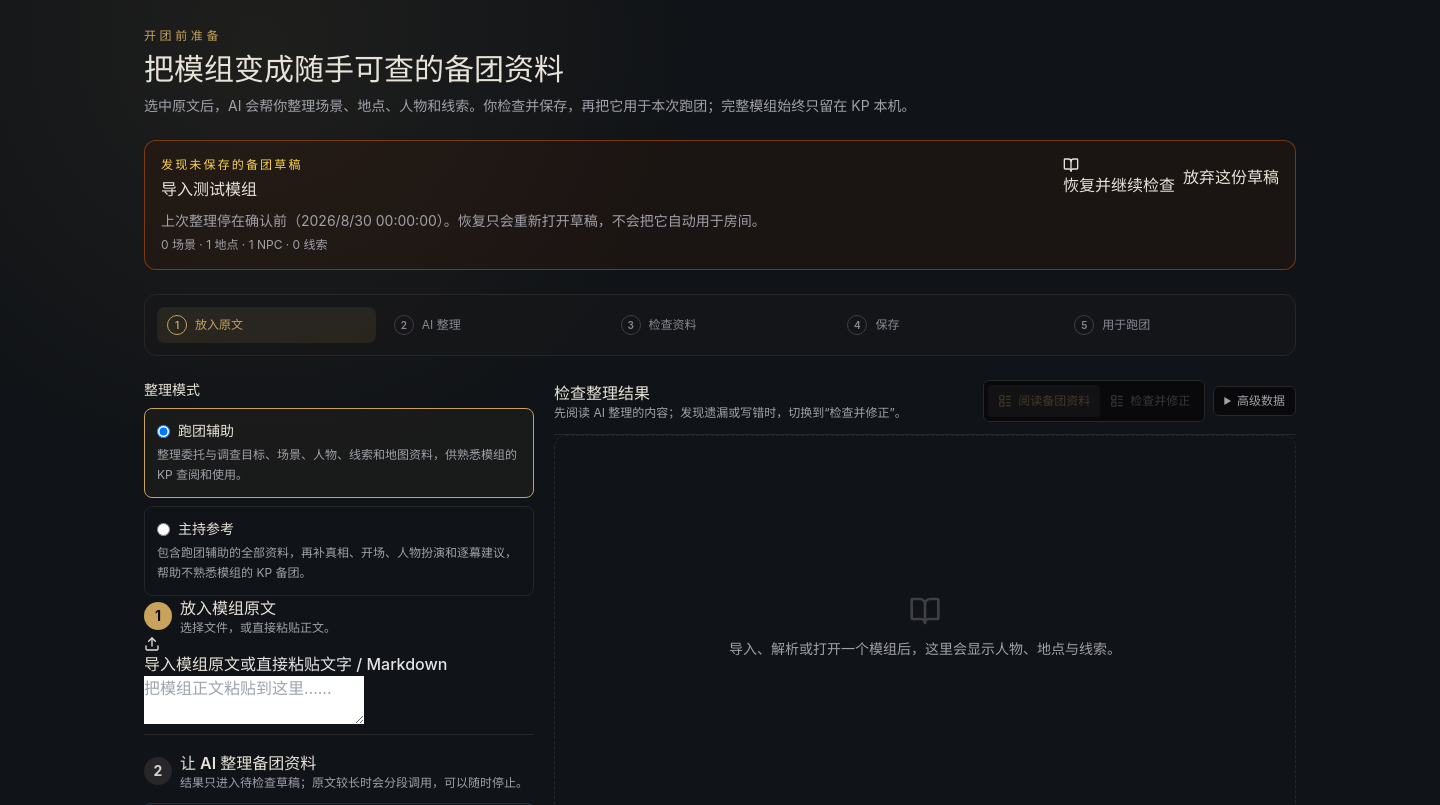
it: ModulesView browser import › can discard a recovered draft without adding it to the formal library
The width and height of the screenshot is (1440, 805).
Click the button "放弃这份草稿" at (1231, 177), box [1183,157,1279,197]
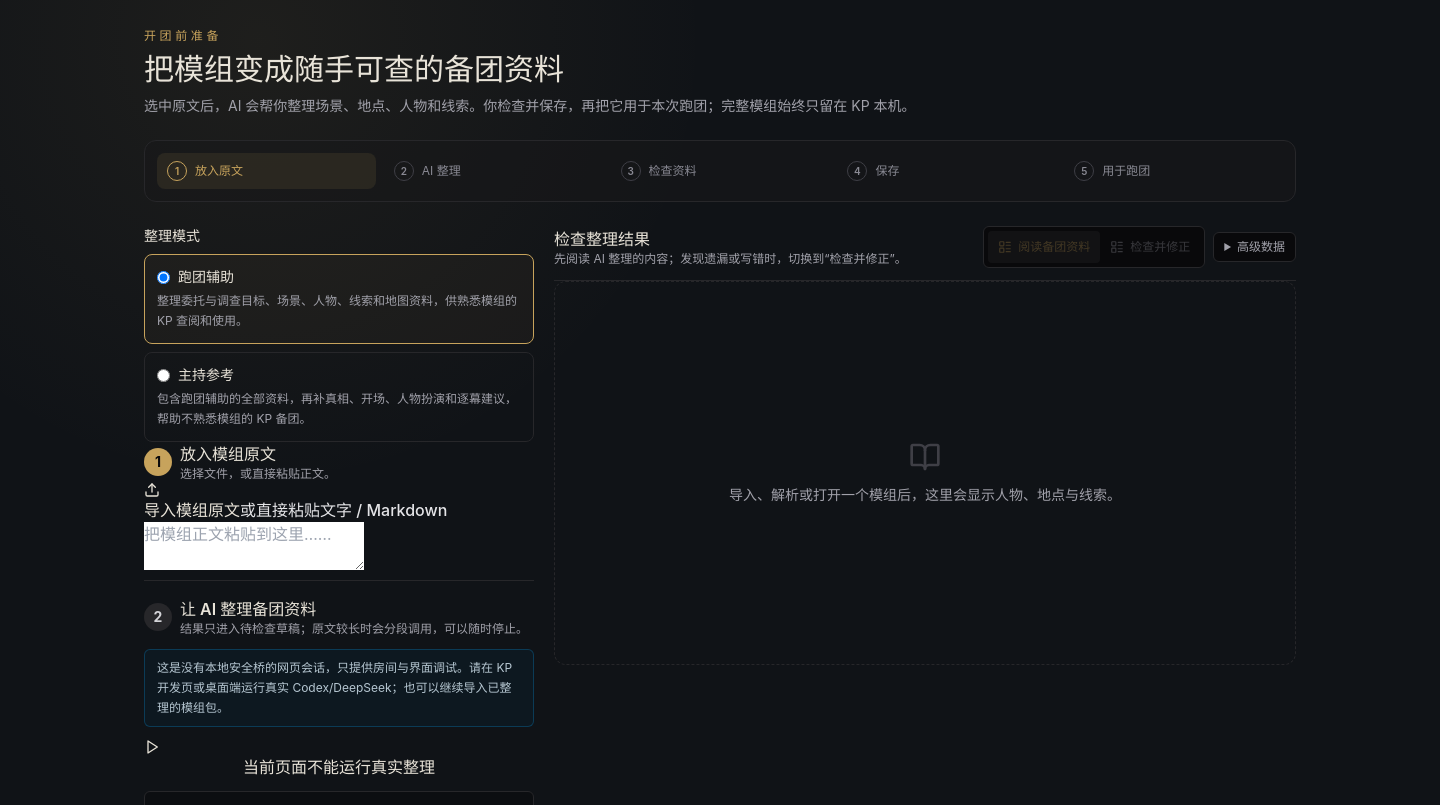
Expected: the field labelled "可恢复的模组草稿" is gone
